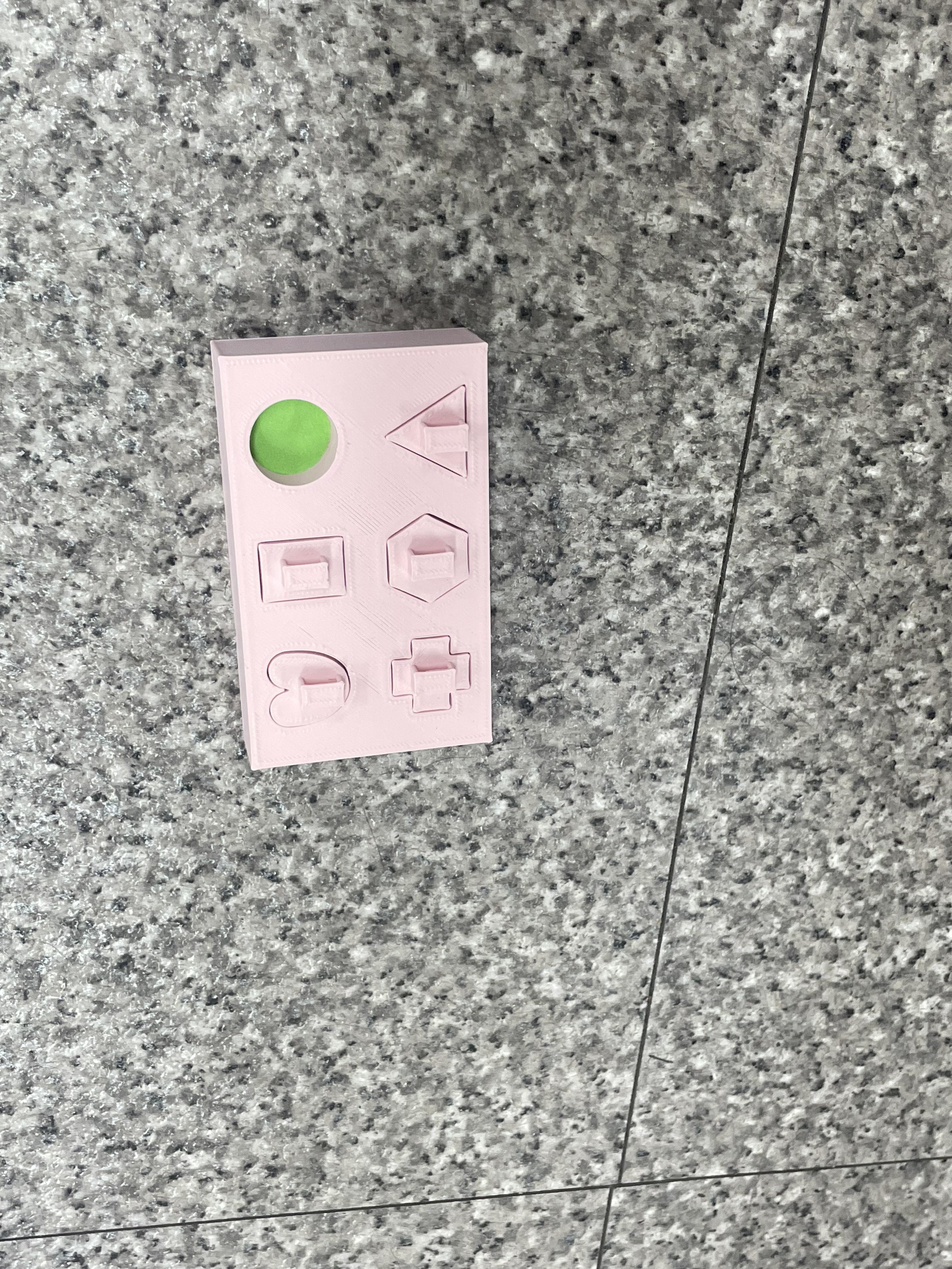unsolved: (179, 309, 533, 775)
